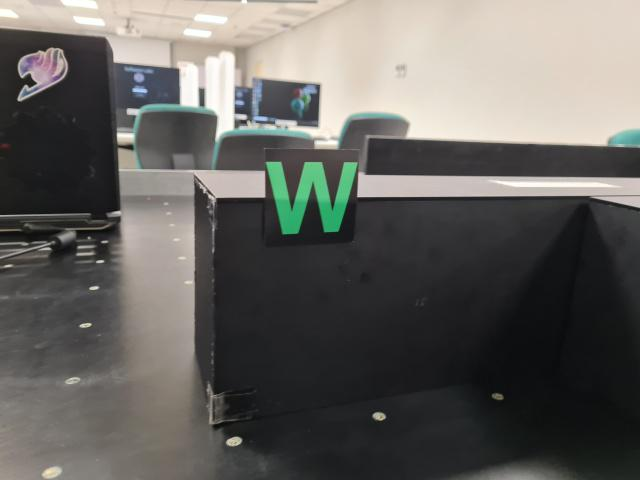w: (263, 147, 360, 246)
